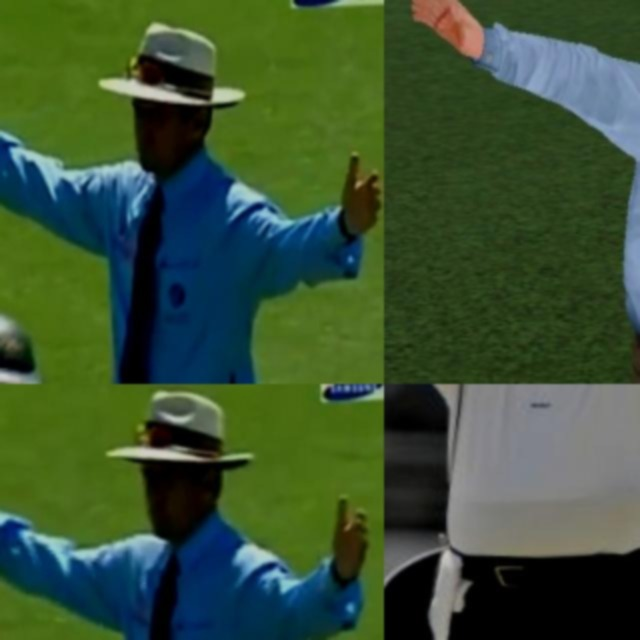No_Ball: (401, 0, 640, 384)
Six: (384, 384, 640, 640)
Wide: (0, 2, 384, 384), (0, 384, 384, 640)
